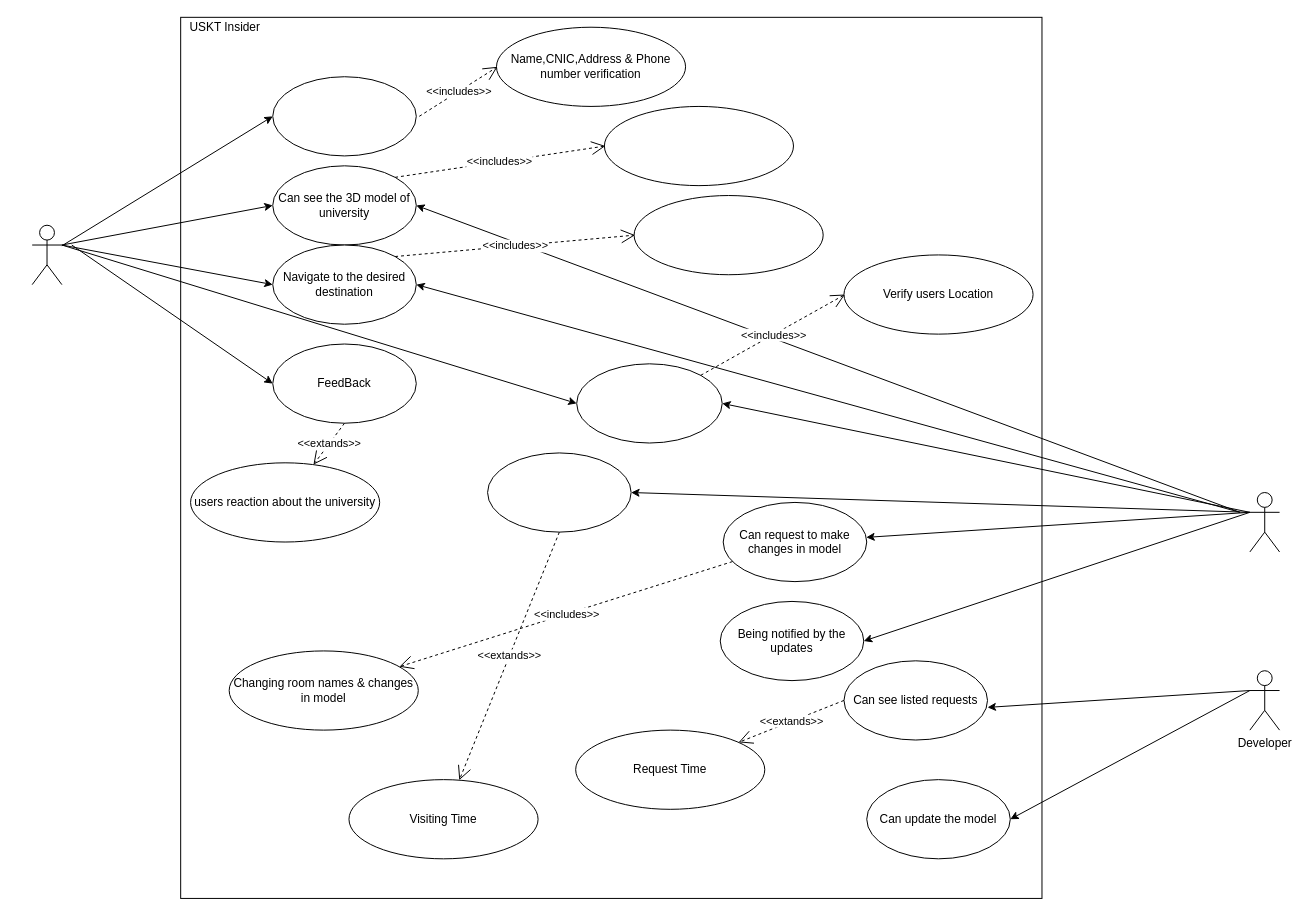
This 1309x916 diagram has some shape labels left out. The shapes that lost their labels are listed below. From the top down, each one's centre as x and y in pixels, then its label:
At (x=344, y=116): "Filling the Visitor form provided by he app".
At (x=698, y=145): "the 3D WebView Model of USKT".
At (x=46, y=254): "New Visitor".
At (x=728, y=235): "2D Map of USKT".
At (x=649, y=403): "Can share the location".
At (x=559, y=492): "Can see new visitors".
At (x=1264, y=522): "Admin".
